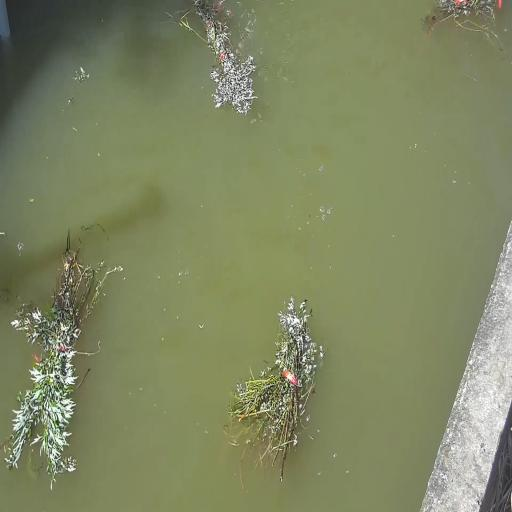twig: (3, 223, 122, 489), (224, 294, 321, 484), (169, 0, 257, 116), (421, 0, 506, 53)
